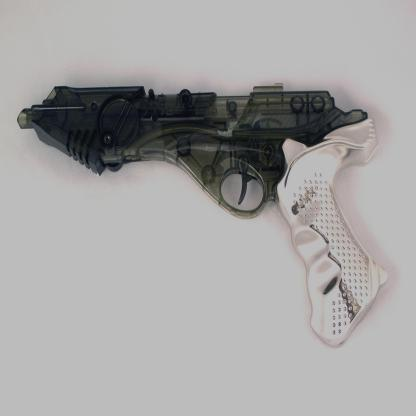Handgun: (16, 82, 388, 347)
